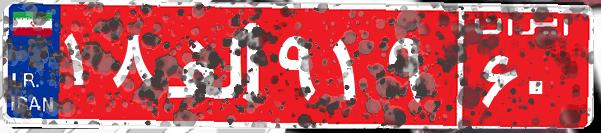0: (525, 38, 570, 115)
1: (330, 28, 385, 110), (57, 26, 110, 107)
6: (475, 38, 525, 113)
8: (110, 28, 158, 105)
9: (385, 28, 445, 110), (273, 28, 330, 110)
الف: (158, 15, 273, 115)
